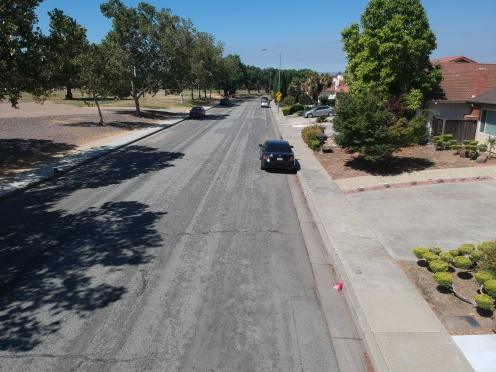can: (350, 266, 364, 278)
plastic bag: (330, 279, 347, 293)
